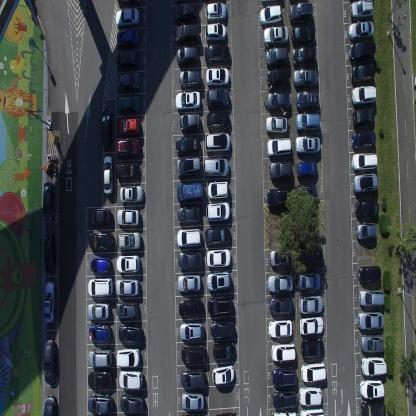car: (176, 180, 204, 204), (349, 39, 376, 63), (271, 364, 297, 388), (87, 392, 113, 416), (44, 337, 57, 385), (300, 360, 327, 383), (353, 171, 378, 195), (205, 131, 231, 154), (361, 354, 387, 377), (356, 310, 384, 331), (43, 230, 56, 275), (291, 23, 315, 47), (351, 82, 376, 105), (176, 155, 202, 177), (180, 344, 206, 366), (359, 378, 385, 400), (348, 19, 374, 41), (204, 42, 230, 64), (88, 230, 114, 252), (87, 276, 113, 298), (174, 89, 201, 110), (43, 280, 56, 323), (206, 270, 231, 292), (207, 294, 232, 316), (180, 367, 205, 389), (354, 198, 379, 220), (351, 129, 376, 151), (176, 227, 202, 248), (268, 295, 294, 316), (270, 342, 296, 363), (266, 137, 292, 158), (358, 288, 385, 308), (206, 200, 230, 222), (294, 182, 318, 204), (289, 2, 313, 24), (295, 90, 319, 112), (206, 66, 230, 88), (174, 22, 198, 44), (173, 0, 197, 22), (115, 6, 139, 28), (120, 393, 144, 415), (88, 346, 112, 368), (88, 322, 112, 344), (206, 247, 231, 268), (272, 388, 297, 409), (360, 332, 385, 353), (295, 135, 320, 156), (263, 24, 288, 45), (116, 137, 141, 158), (115, 347, 140, 368), (204, 225, 230, 245), (298, 316, 324, 336), (267, 273, 293, 293), (265, 187, 291, 207), (352, 151, 378, 171), (350, 63, 376, 83), (292, 68, 318, 88), (42, 180, 54, 223), (212, 364, 235, 386), (358, 264, 381, 286), (269, 159, 292, 181), (352, 106, 374, 129), (265, 114, 288, 136), (266, 66, 289, 88), (259, 4, 282, 26), (296, 112, 320, 133), (266, 91, 290, 112), (265, 45, 289, 66), (206, 87, 230, 108), (206, 109, 230, 130), (175, 134, 199, 155), (116, 71, 140, 92), (179, 320, 204, 340), (268, 318, 293, 338), (203, 157, 229, 176), (115, 161, 141, 180), (176, 45, 198, 67), (301, 338, 324, 359), (299, 386, 322, 407), (204, 1, 227, 22), (297, 272, 321, 292), (178, 250, 202, 270), (177, 272, 201, 292), (178, 298, 202, 318), (210, 320, 234, 340), (292, 48, 316, 68), (180, 110, 200, 134), (117, 230, 141, 250), (116, 254, 140, 274), (119, 370, 143, 390), (88, 370, 113, 389), (101, 106, 112, 148), (212, 341, 236, 360), (180, 391, 204, 410), (178, 69, 202, 88), (116, 207, 140, 226), (115, 301, 139, 320), (118, 324, 142, 343), (86, 301, 110, 320), (207, 180, 229, 200), (355, 221, 377, 241), (296, 160, 318, 180), (204, 22, 226, 42), (115, 50, 137, 70), (177, 205, 200, 224), (116, 28, 139, 47), (118, 94, 141, 113), (88, 207, 111, 226), (116, 277, 139, 296), (103, 153, 113, 196), (119, 184, 144, 201), (119, 116, 140, 136), (268, 248, 290, 267), (360, 400, 386, 416), (350, 0, 373, 18), (90, 256, 110, 274), (43, 394, 56, 416), (299, 408, 325, 416), (272, 410, 296, 416), (214, 409, 238, 415)
